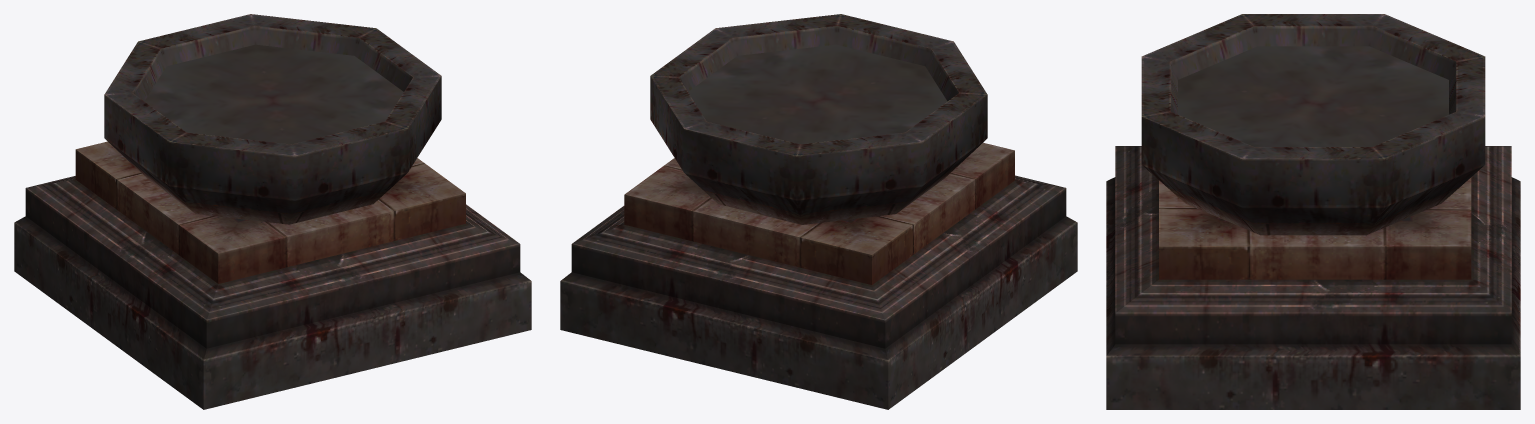
File: blsd_huolu_01.FBX
3 renders of one model, left to right at view 1: azimuth 30°, elevation 25°; view 2: azimuth 150°, elevation 25°; view 3: azimuth 270°, elevation 25°, orthographic. The views are drawn at different scales.
Visible parts, largest first — view 1: blsd_huolu_01; view 2: blsd_huolu_01; view 3: blsd_huolu_01.
Boxes of the visible parts, left/top/right/bottom form: blsd_huolu_01: left=14, top=14, right=531, bottom=409; blsd_huolu_01: left=560, top=14, right=1077, bottom=409; blsd_huolu_01: left=1106, top=14, right=1520, bottom=409.
Size of the model in its own units: 118 by 118 by 73.74.
